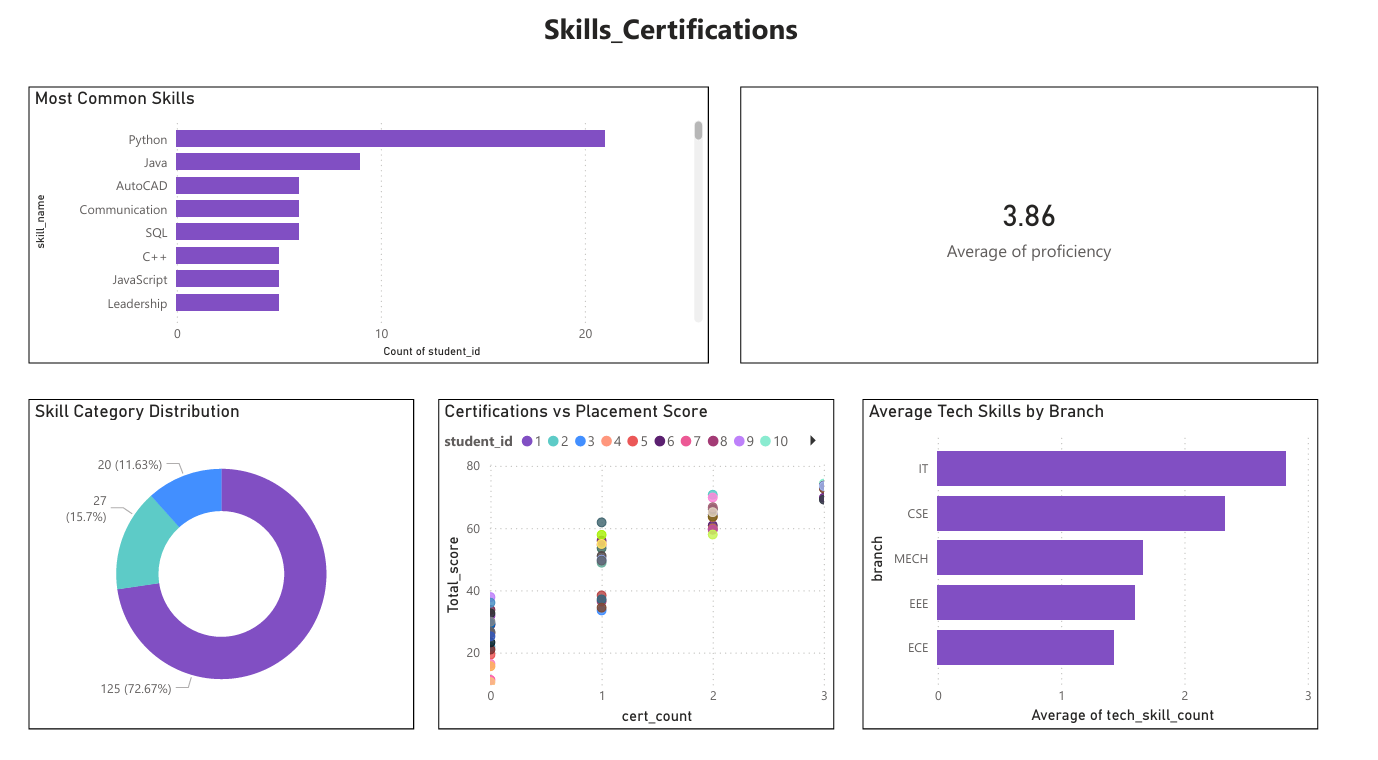

The page's visual inventory and layout, read from the dashboard file:
{"tool":"powerbi","page":{"name":"Skills_Certifications","canvas":[1280,720],"ordinal":2},"visuals":[{"type":"textbox","box":[3.8,15.1,1239.7,52.9],"z":0},{"type":"barChart","title":"Most Common Skills","fields":{"Category":["Skills.skill_name"],"Y":["CountNonNull(Skills.student_id)"]},"box":[9.4,94.5,650.1,264.6],"z":1000},{"type":"card","fields":{"Values":["Avg(Skills.proficiency)"]},"box":[689.8,94.5,553.7,264.6],"z":2000},{"type":"donutChart","title":"Skill Category Distribution","fields":{"Category":["Skills.skill_category"],"Y":["CountNonNull(Skills.skill_name)"]},"box":[9.4,393.1,368.5,315.6],"z":3000},{"type":"scatterChart","title":"Certifications vs Placement Score","fields":{"X":["Main_Data.cert_count"],"Y":["Main_Data.Total_score"],"Series":["Main_Data.student_id"]},"box":[400.6,393.1,379.8,315.6],"z":4000},{"type":"barChart","title":"Average Tech Skills by Branch","fields":{"Category":["Main_Data.branch"],"Y":["Avg(Main_Data.tech_skill_count)"]},"box":[806.9,393.1,436.5,315.6],"z":5000}]}

Visuals, with their boxes in screenshot pixels (x1, y1, x2, y2), scaled from the page's 1280x720 canvas onto the 1378x760 screenshot:
textbox: 4 16 1339 72
"Most Common Skills" barChart: 10 100 710 379
card - Avg(Skills.proficiency): 743 100 1339 379
"Skill Category Distribution" donutChart: 10 415 407 748
"Certifications vs Placement Score" scatterChart: 431 415 840 748
"Average Tech Skills by Branch" barChart: 869 415 1339 748
